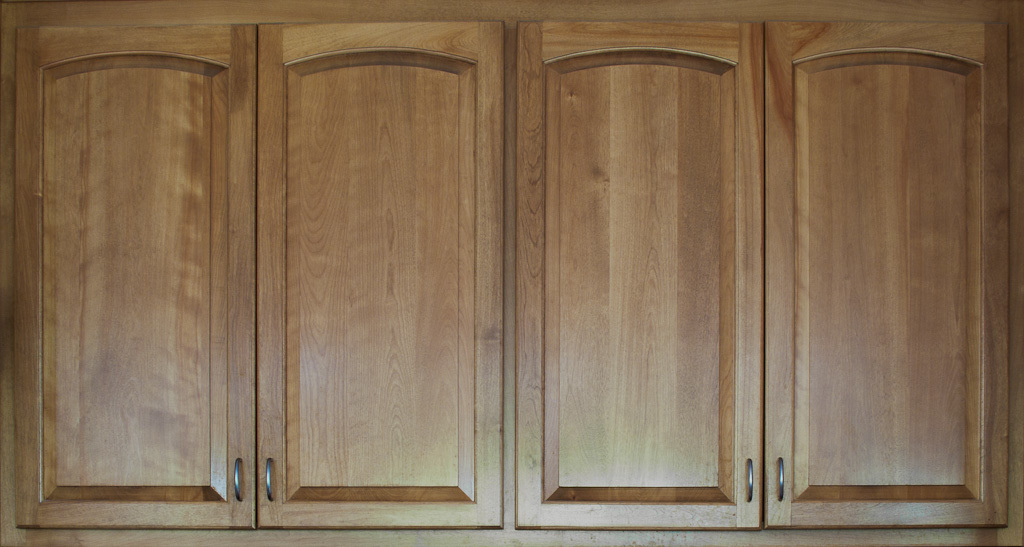cabinet door: (9, 17, 260, 527), (519, 17, 766, 529), (263, 24, 503, 523), (764, 23, 1003, 523)
handle: (734, 455, 762, 510), (258, 454, 284, 504), (226, 457, 248, 500), (774, 457, 790, 504)
